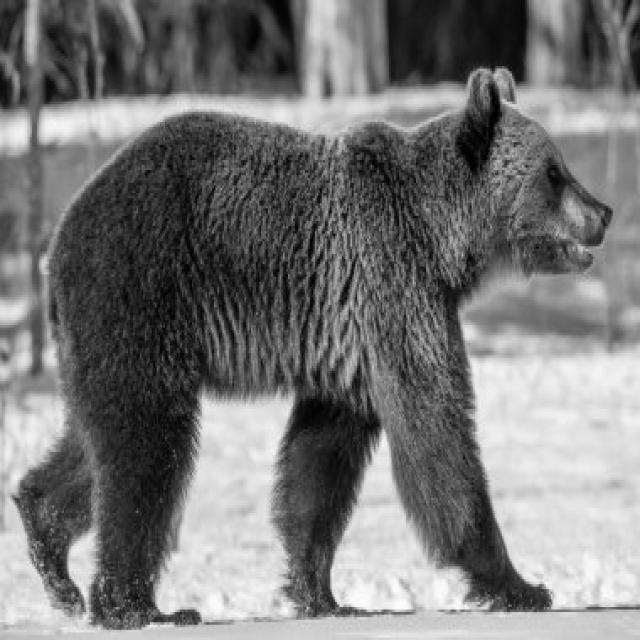Animal: (15, 69, 610, 626)
